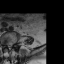CCS_normal: (9, 43, 10, 52)
LFS_severe_stenosis: (12, 42, 14, 48)
LLS_normal: (10, 43, 12, 50)
RFS_severe_stenosis: (5, 42, 7, 48)
RLS_normal: (7, 43, 9, 49)
